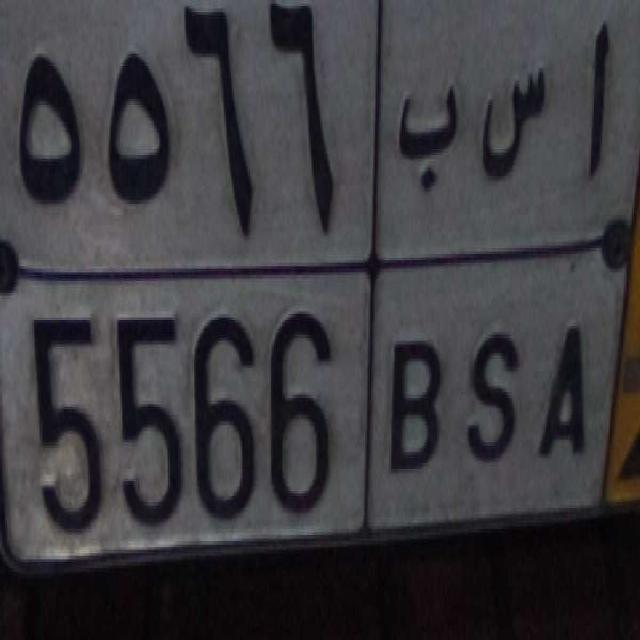license_plate: (6, 258, 604, 552)
